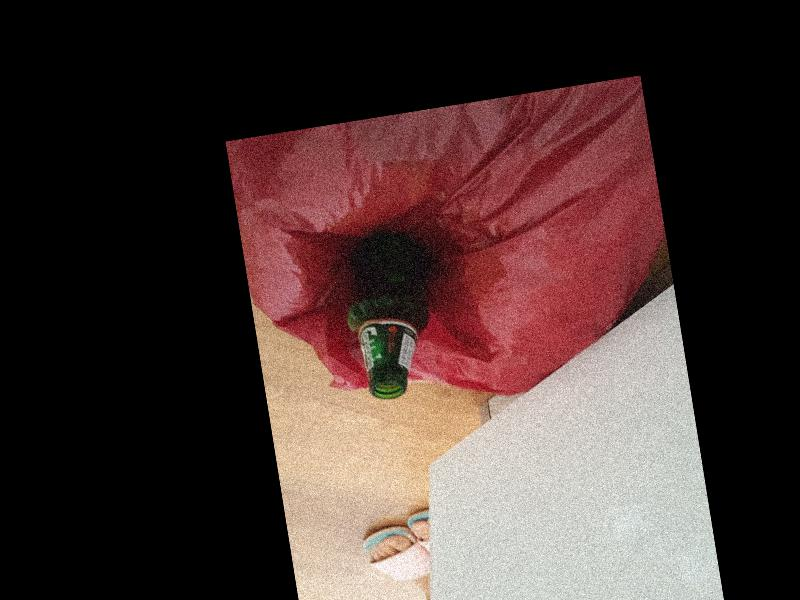Beer: (335, 226, 448, 402)
